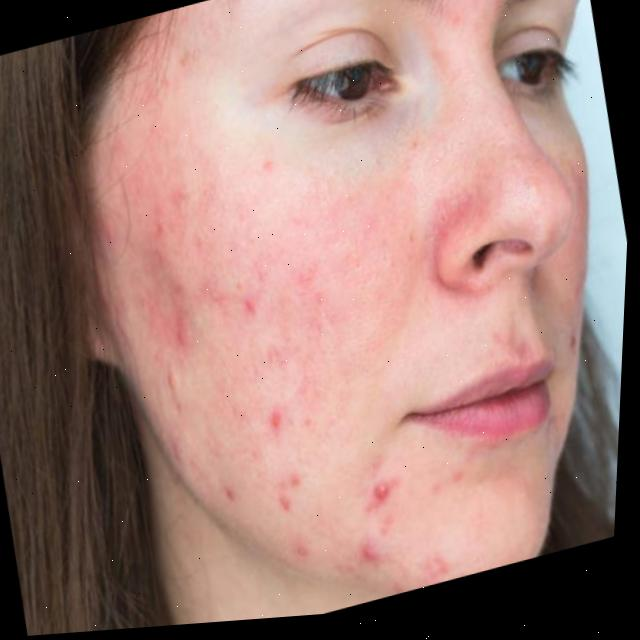Rosacea: (60, 5, 440, 633)
